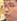without_mask: (2, 2, 17, 21)
